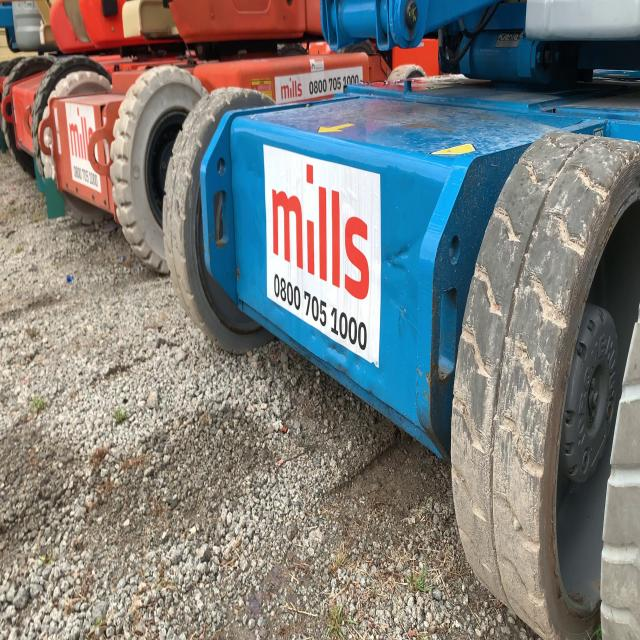Adesivos: (261, 141, 384, 373)
